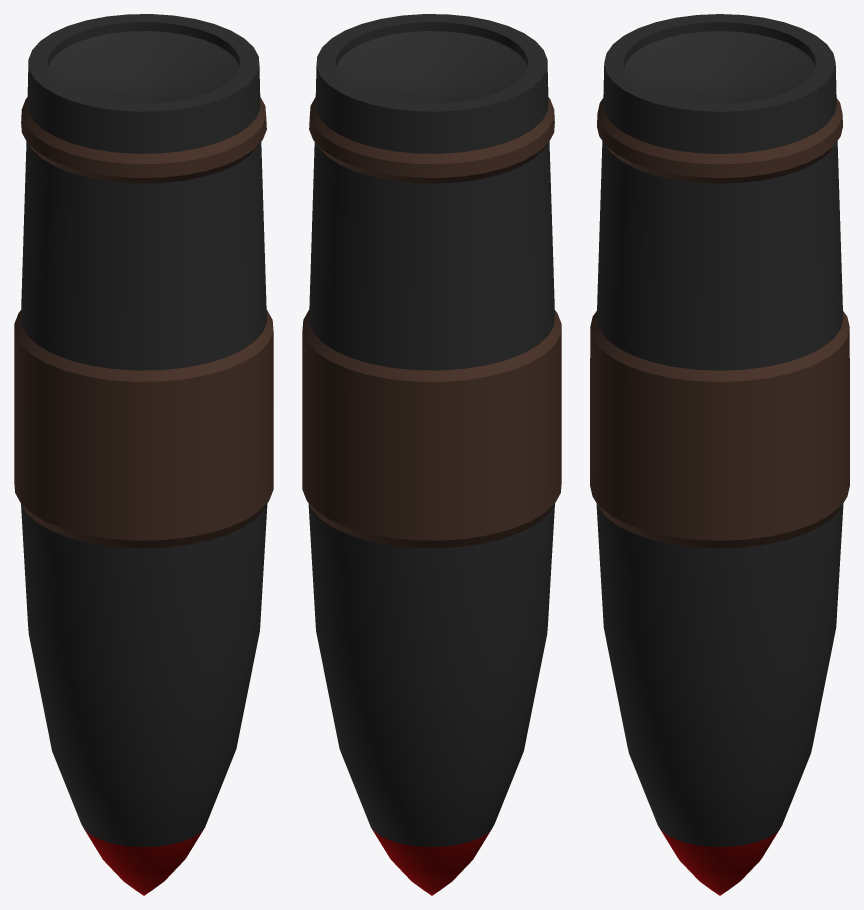
The model's file is TankProjectile.obj.
3 views of the same model, side by side, from view 1: azimuth 30°, elevation 25°; view 2: azimuth 150°, elevation 25°; view 3: azimuth 270°, elevation 25° (orthographic).
Parts seen in each view (by area): view 1: Cylinder; view 2: Cylinder; view 3: Cylinder.
Part boxes in pixels (x1,y1,x2,y2): Cylinder: (14, 14, 273, 895); Cylinder: (302, 14, 561, 895); Cylinder: (590, 14, 849, 895).
Size of the model in its own units: 12.05 by 42.63 by 12.05.
